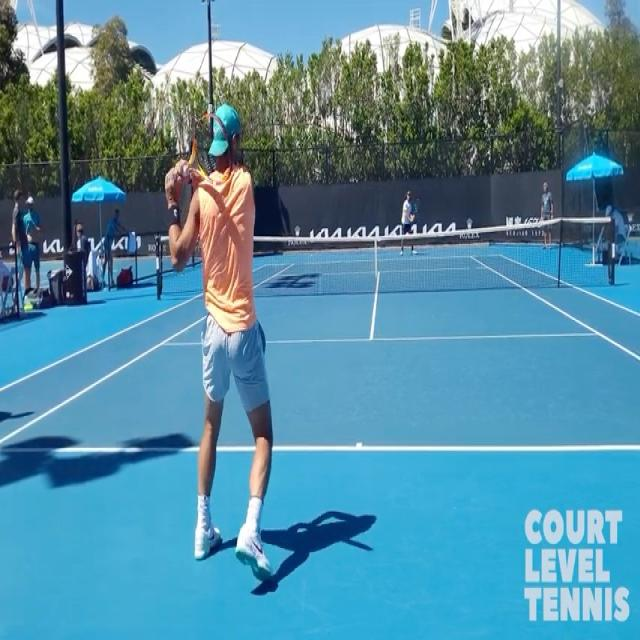backhand-finish: (154, 73, 274, 607)
